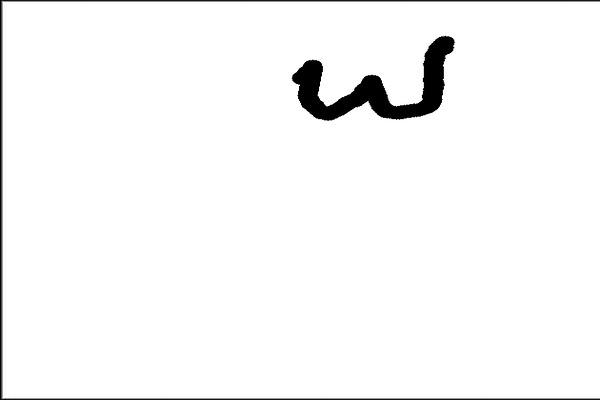w: (281, 19, 460, 142)
